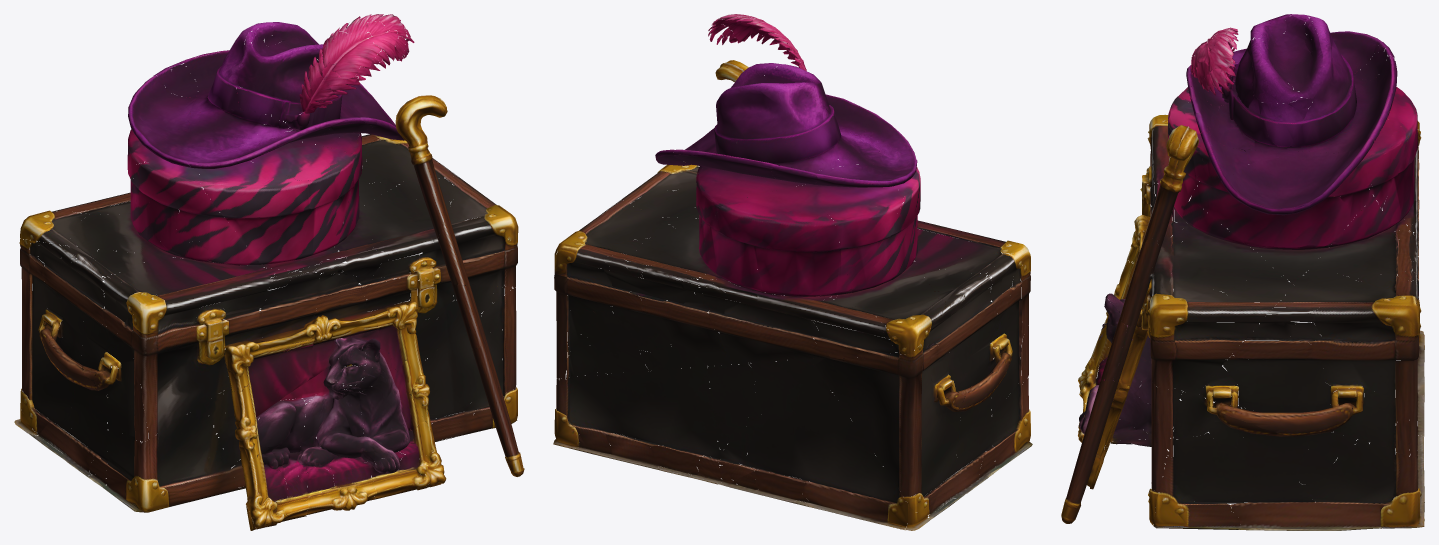
The model's file is stash.glb.
The picture shows the model from 3 angles, left to right: view 1: azimuth 30°, elevation 25°; view 2: azimuth 150°, elevation 25°; view 3: azimuth 270°, elevation 25°; orthographic projection. The views are drawn at different scales.
Parts seen in each view (by area): view 1: tripo_node_5b00820e-2ef8-4066-ab51-4da72f168d34; view 2: tripo_node_5b00820e-2ef8-4066-ab51-4da72f168d34; view 3: tripo_node_5b00820e-2ef8-4066-ab51-4da72f168d34.
Part boxes in pixels (box(x1,y1,x2,y2)): tripo_node_5b00820e-2ef8-4066-ab51-4da72f168d34: box(14, 14, 524, 530); tripo_node_5b00820e-2ef8-4066-ab51-4da72f168d34: box(553, 14, 1032, 530); tripo_node_5b00820e-2ef8-4066-ab51-4da72f168d34: box(1061, 14, 1424, 530).
Bounding box in the file's own units: 0.9992 × 0.9911 × 0.7231.
Materials: 1 (1 with a texture image).
